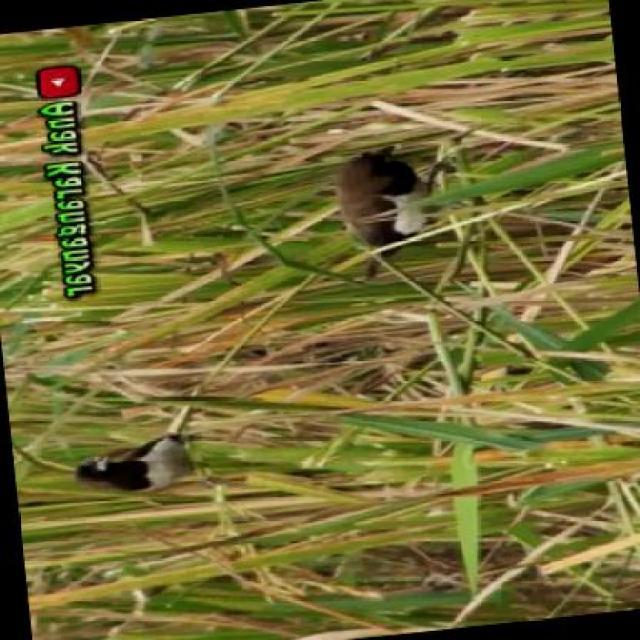Bird: (310, 136, 456, 291), (66, 429, 218, 500)
